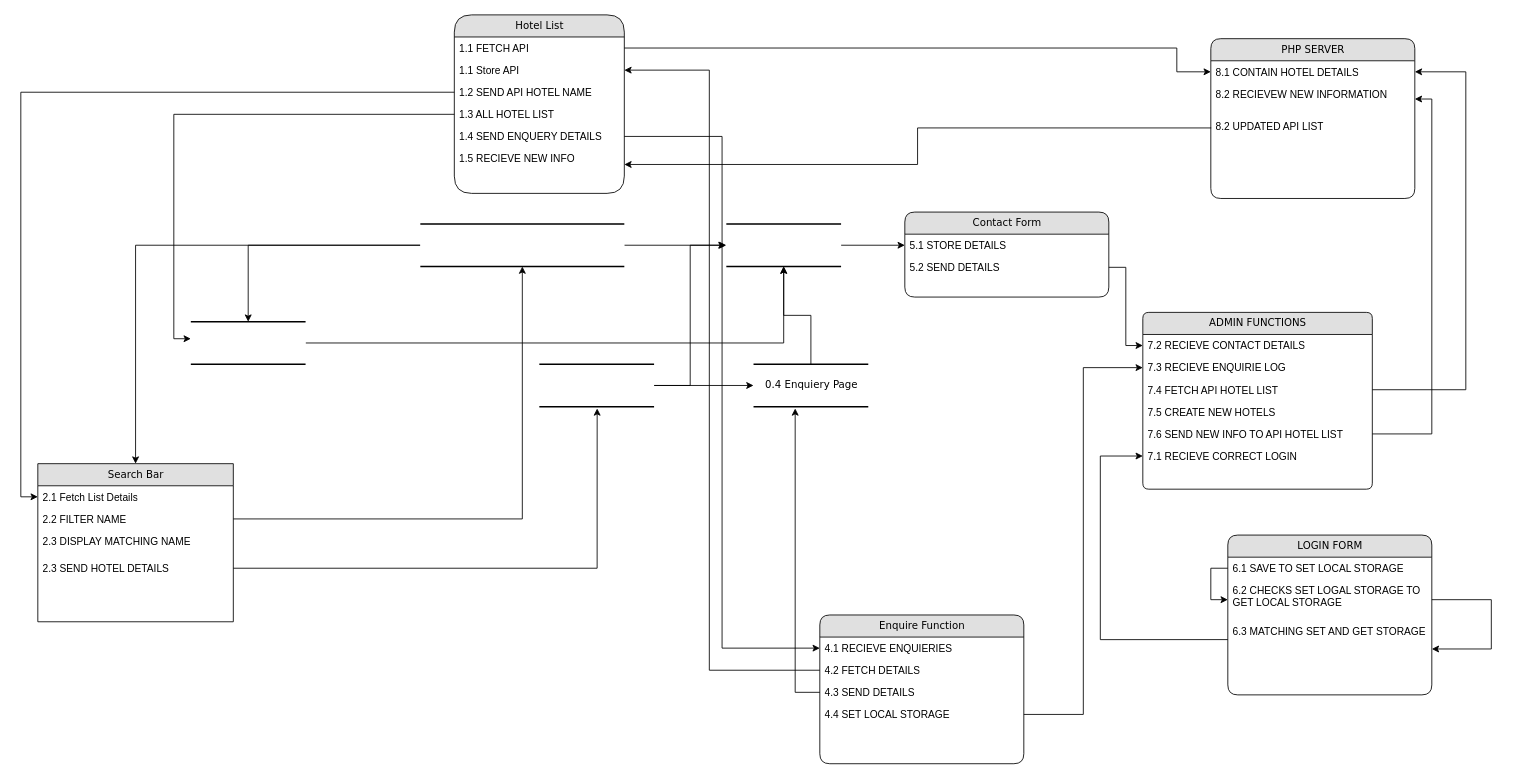
This 1513x779 diagram has some shape labels left out. Each missing label, with the centre of its shape:
"0.1 INDEX" goes at (522,245).
"0.2 All Hotel Page" goes at (248,342).
"0.3 Hotel Specific Page" goes at (596,385).
"0.5 Contact Page" goes at (783,245).
